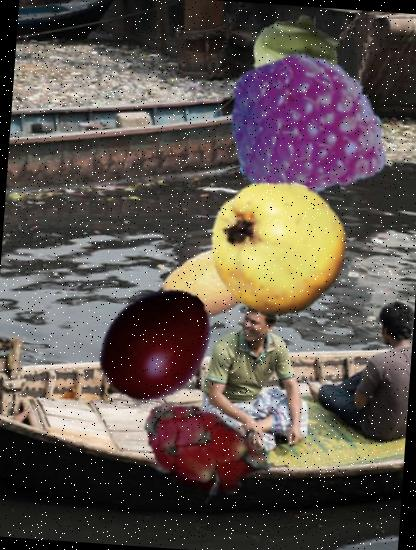Kohlrabi: (249, 8, 344, 102)
Kumquats: (158, 238, 254, 333)
Pepper: (224, 206, 312, 294)
Pitahaya: (132, 376, 276, 520)
Quince: (202, 175, 352, 324)
Raspberry: (224, 47, 382, 206)
Tamarillo: (82, 276, 226, 420)
